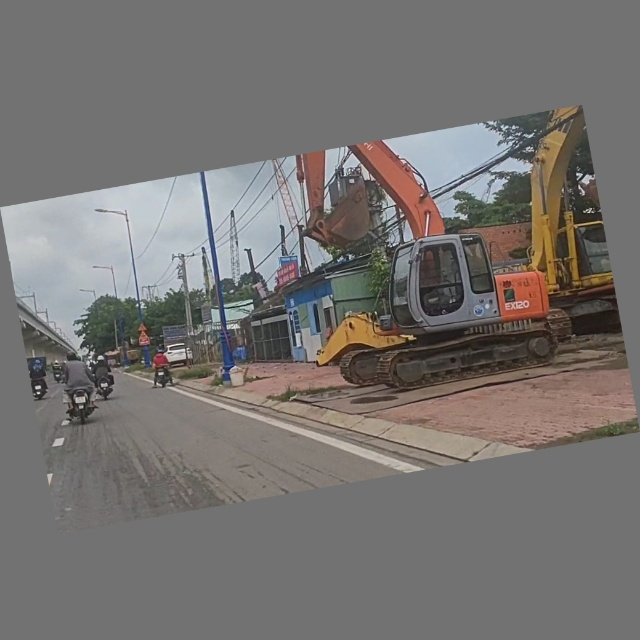W.203c: (137, 323, 149, 333)
W.245a: (138, 331, 151, 341)
